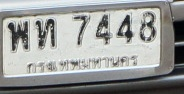txt18: (33, 17, 58, 50)
txt25: (6, 19, 30, 53)
